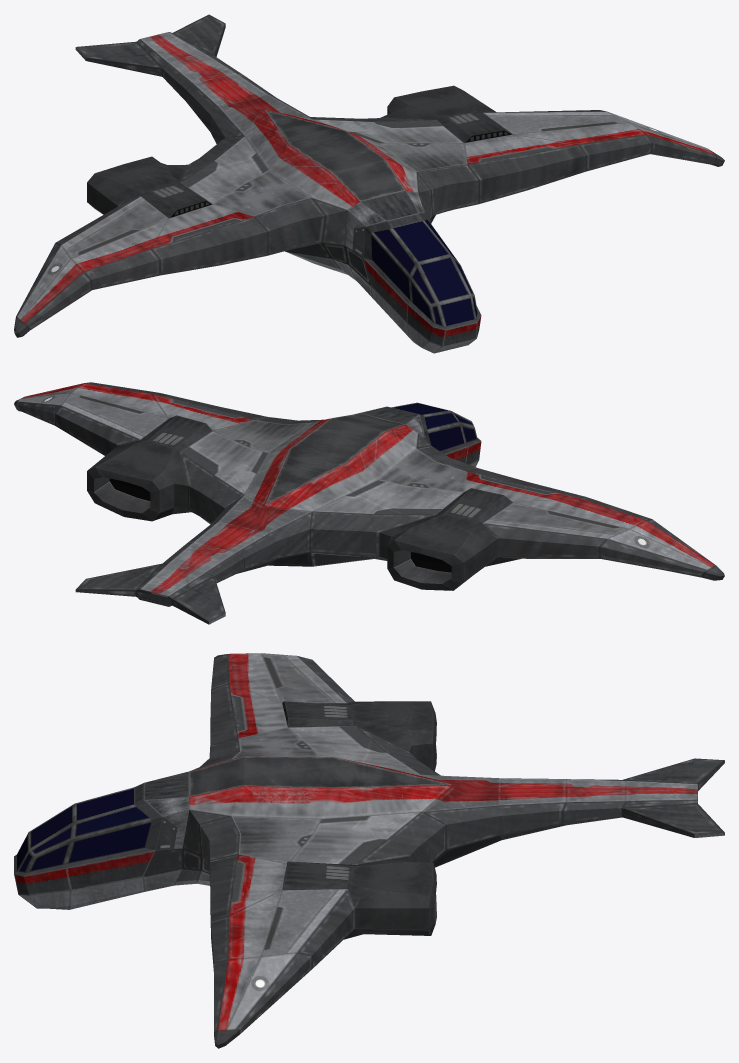
File: Spaceship14.fbx
3 views of the same model, one above another, from view 1: azimuth 30°, elevation 25°; view 2: azimuth 150°, elevation 25°; view 3: azimuth 270°, elevation 25° (orthographic). The views are drawn at different scales.
Visible parts, largest first — view 1: Spaceship14; view 2: Spaceship14; view 3: Spaceship14.
Part boxes in pixels (x1=…): Spaceship14: x1=14, y1=14, x2=724, y2=353; Spaceship14: x1=14, y1=382, x2=724, y2=624; Spaceship14: x1=14, y1=653, x2=724, y2=1048.
Size of the model in its own units: 1967 by 306 by 1532.
